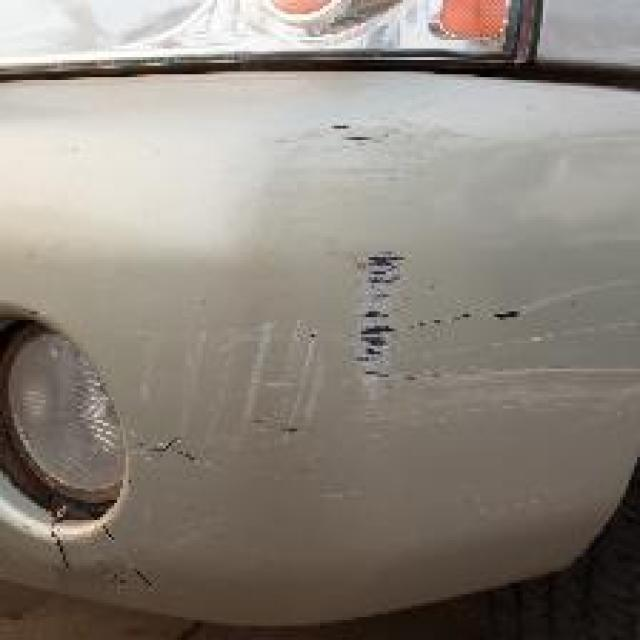damaged: (120, 254, 637, 483), (43, 497, 168, 606), (274, 114, 417, 160)
